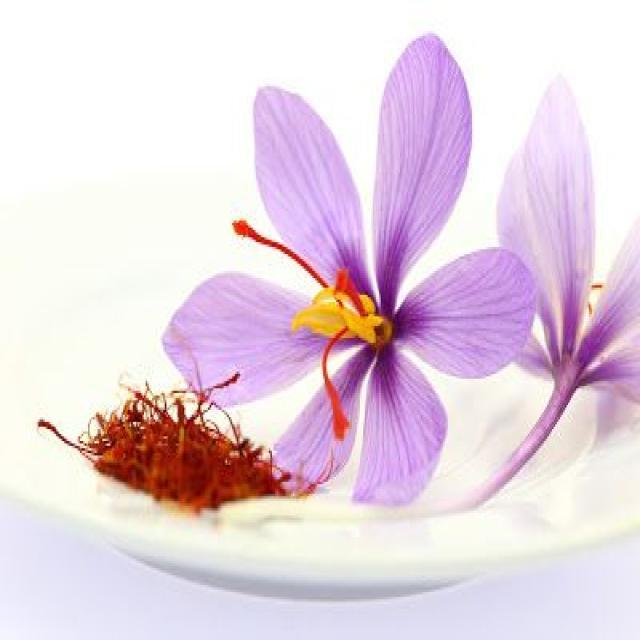Flower: (164, 35, 535, 502)
stigma: (226, 213, 341, 305), (318, 328, 354, 444), (327, 265, 367, 319)
